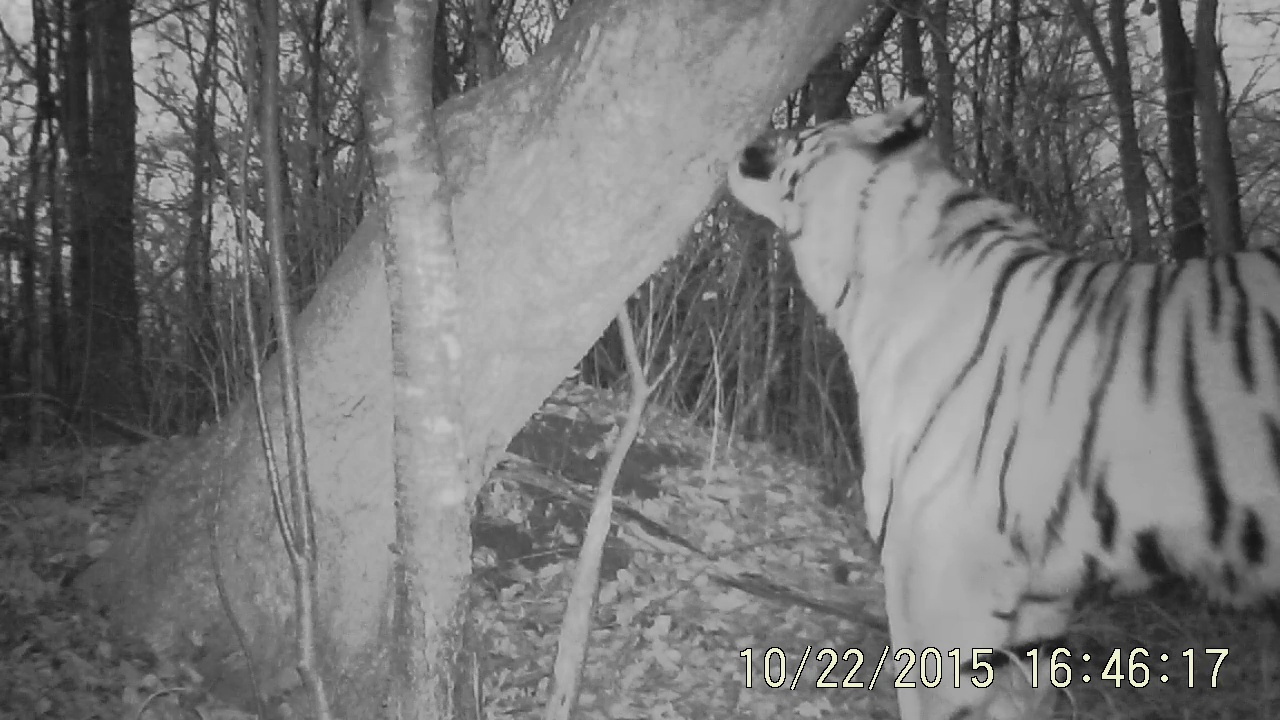Tiger: (660, 83, 1280, 637)
